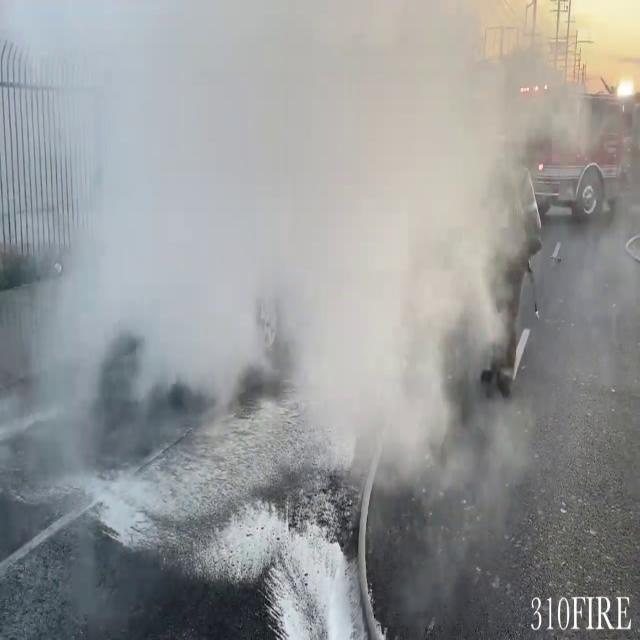Smoke: (2, 0, 540, 505)
